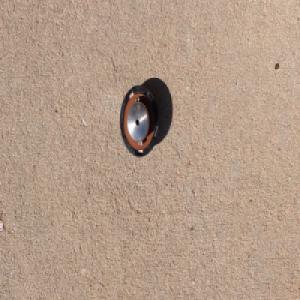FuelCap: (118, 82, 160, 160)
